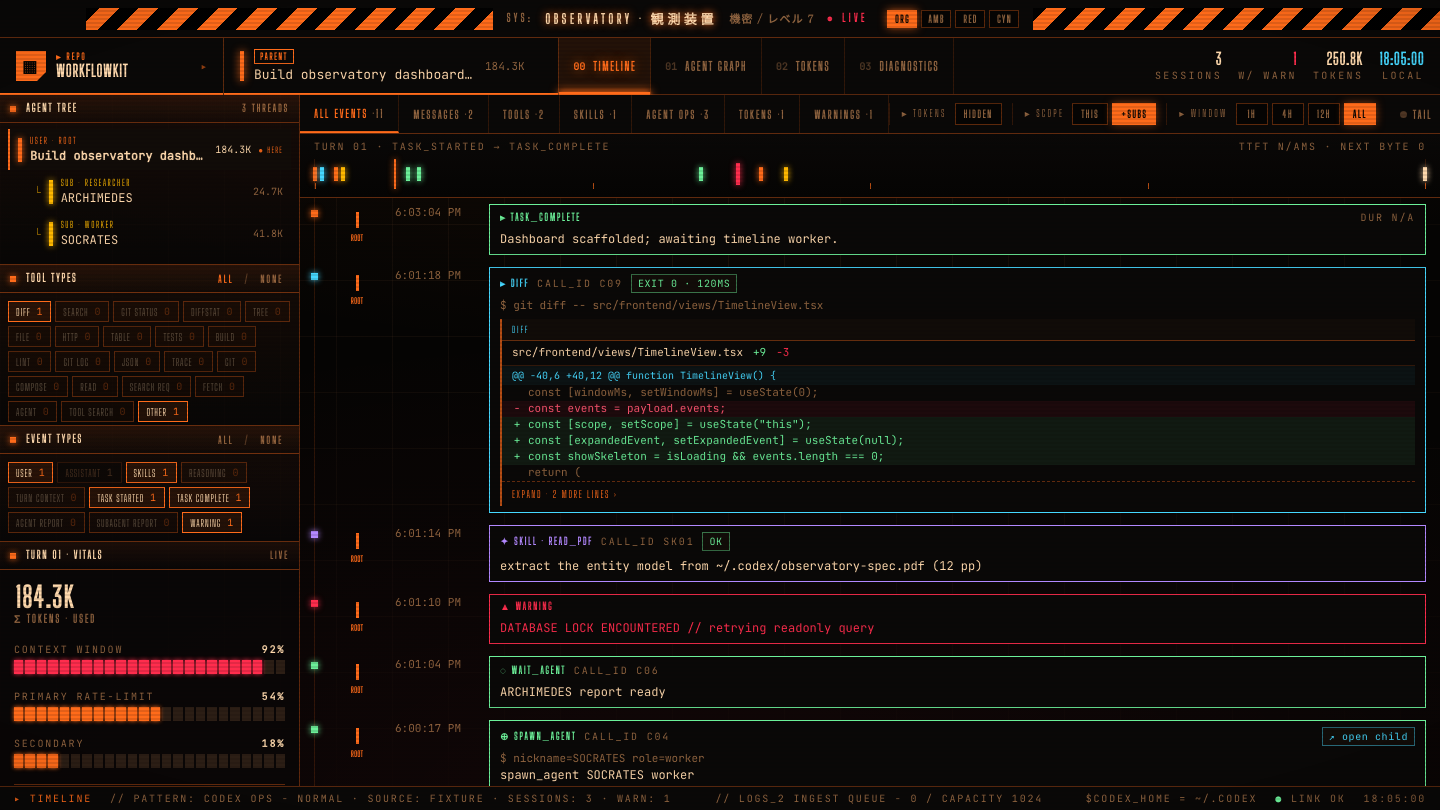
Scenario: fixture-backed app shell › opens the Repos index from the header and scopes Sessions to a repo dossier
Step 1. Click the button with aria-label "repos" → {"x": 112, "y": 66}, box [0, 38, 224, 94]
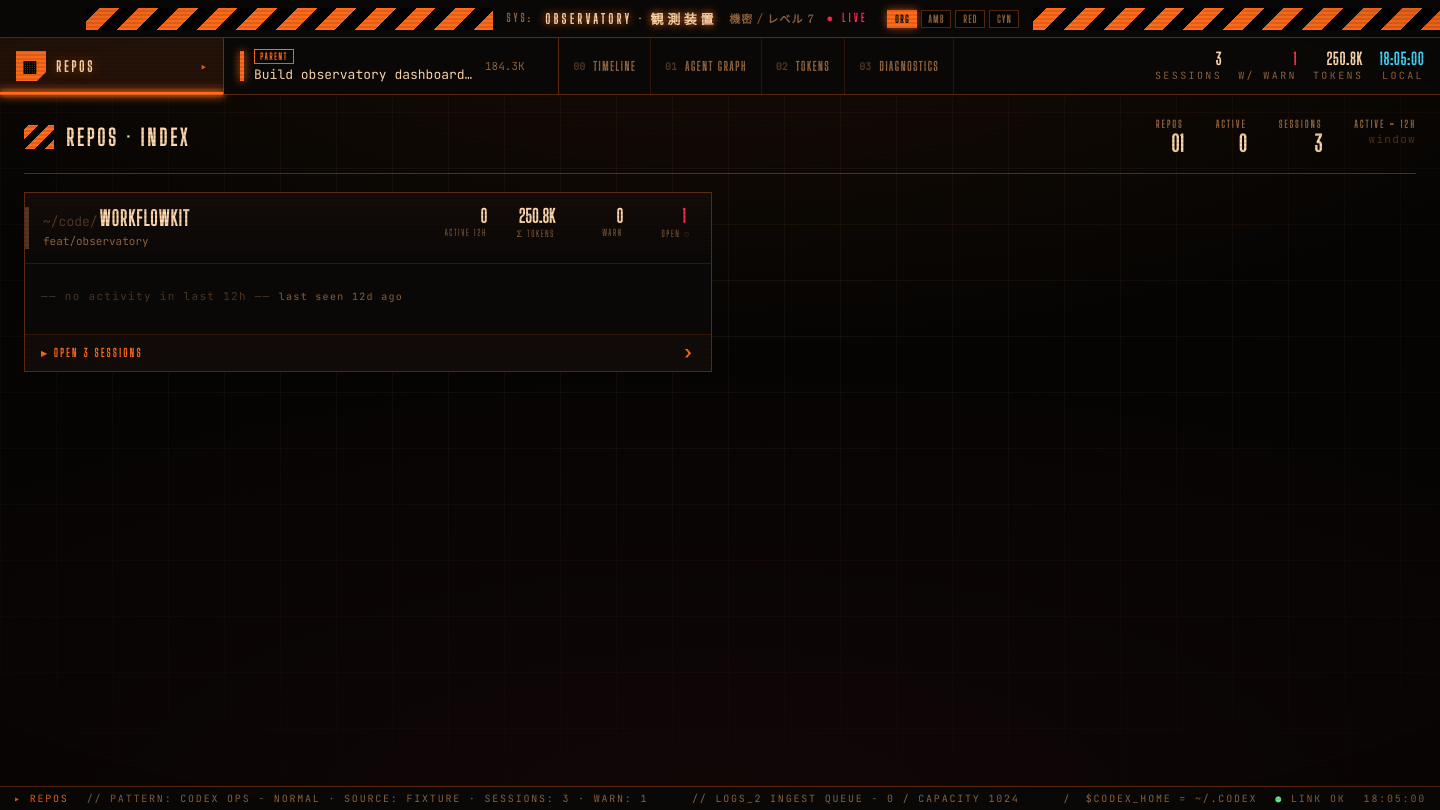
Check: the text "workflowkit" is shown, box [100, 207, 190, 231]
Check: the heading "REPOS · INDEX" is shown, box [66, 124, 190, 150]
Check: the text "▸ OPEN 3 SESSIONS" is shown
Opening the repo drops into the Sessions dossier scoped to that repo.
Step 2. Click the text "▸ OPEN 3 SESSIONS" → {"x": 92, "y": 353}, box [41, 346, 143, 360]
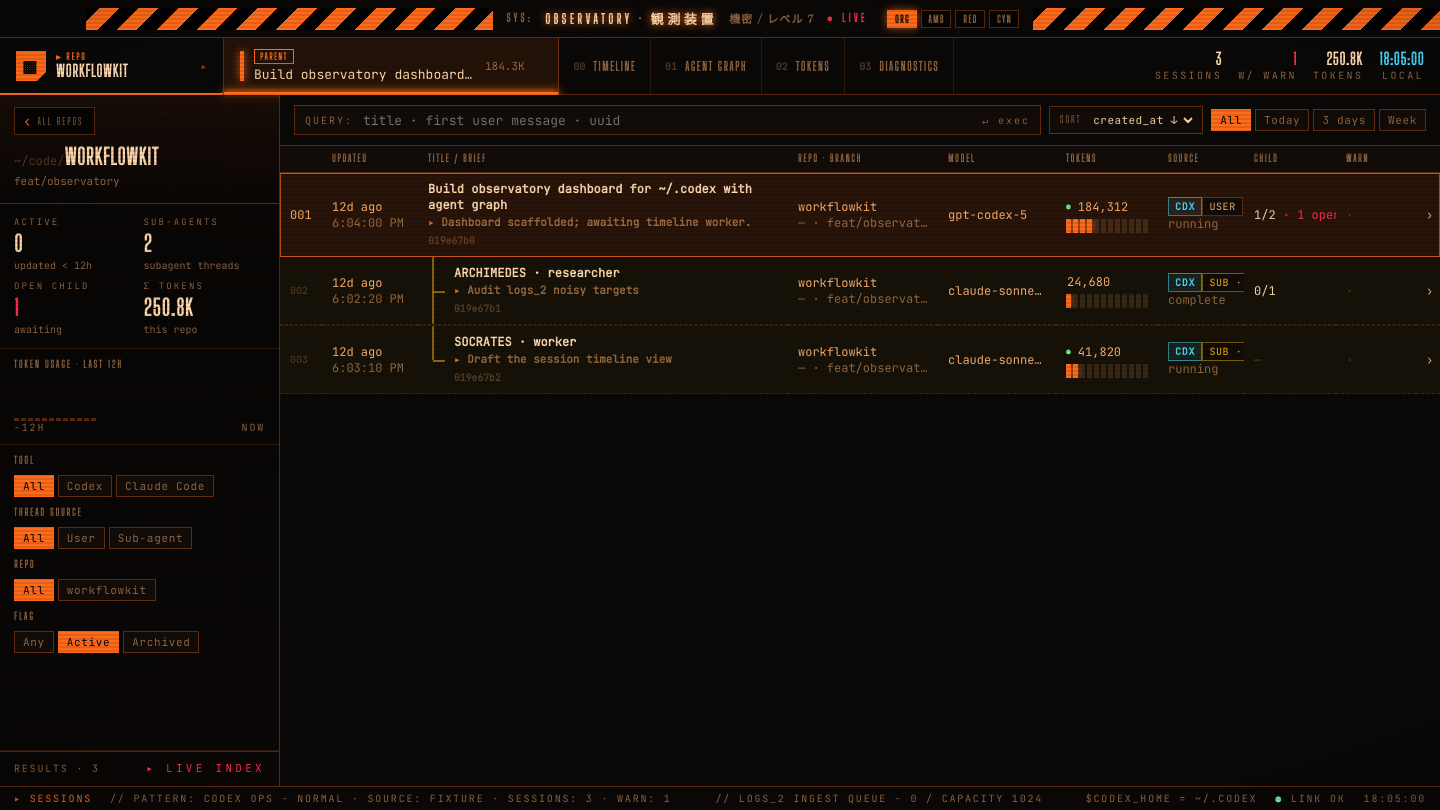
Check: the button "‹ ALL REPOS" is shown
Check: the table named "sessions" is shown, box [280, 146, 1439, 394]
The back affordance returns to the full index.
Step 3. Click the button "‹ ALL REPOS" → {"x": 54, "y": 121}, box [14, 107, 94, 135]
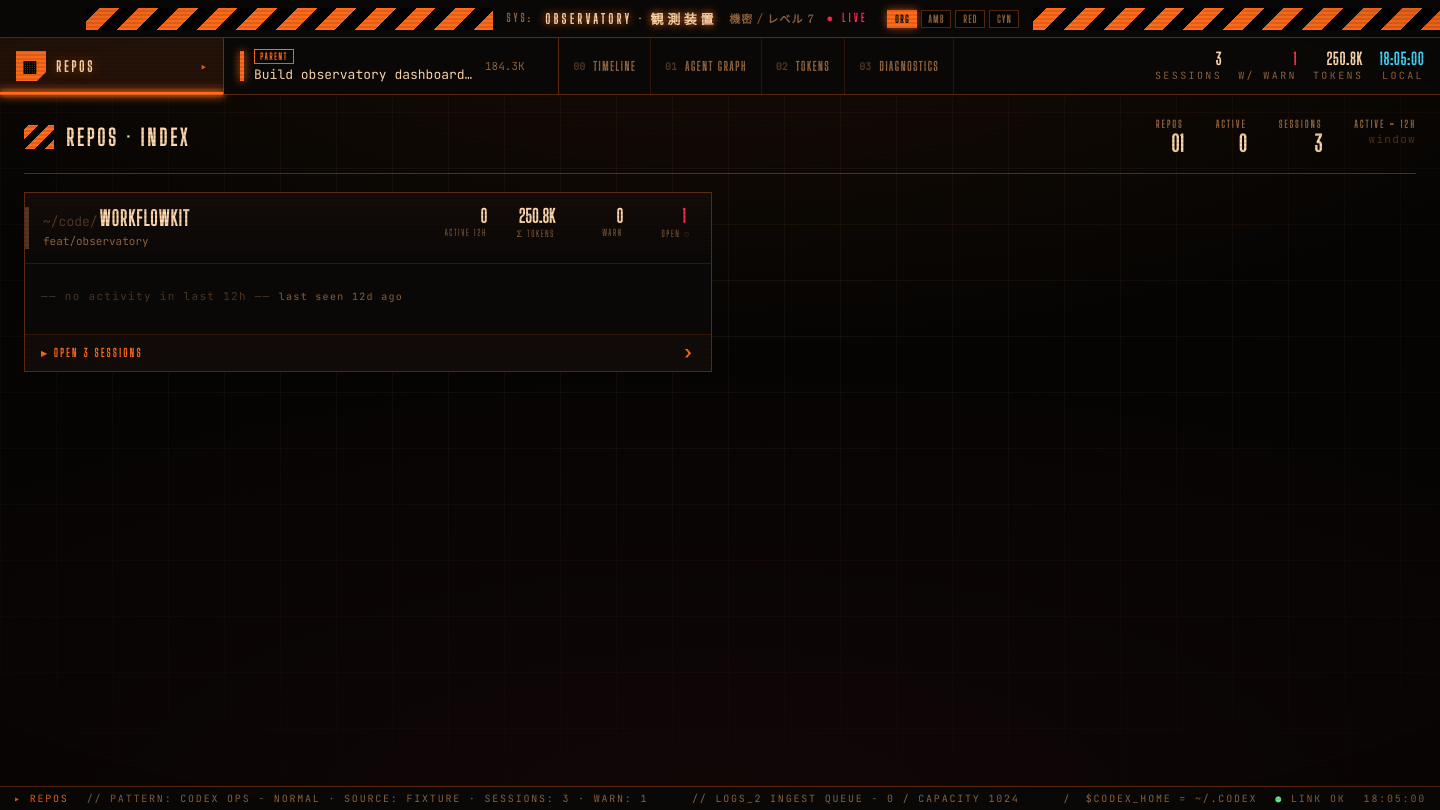
Check: the heading "REPOS · INDEX" is shown, box [66, 124, 190, 150]
